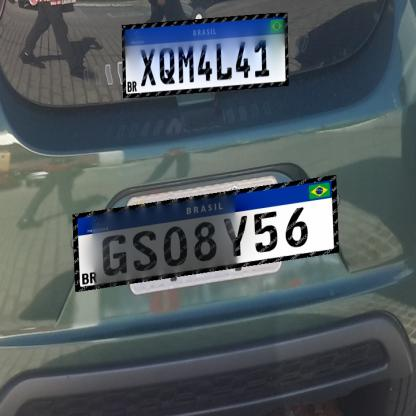PlacaM: (72, 175, 339, 292), (122, 13, 289, 98)
